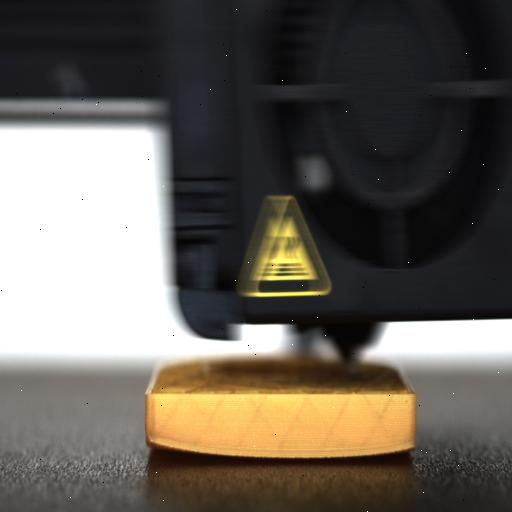warp: (144, 432, 226, 454), (352, 442, 414, 458)
